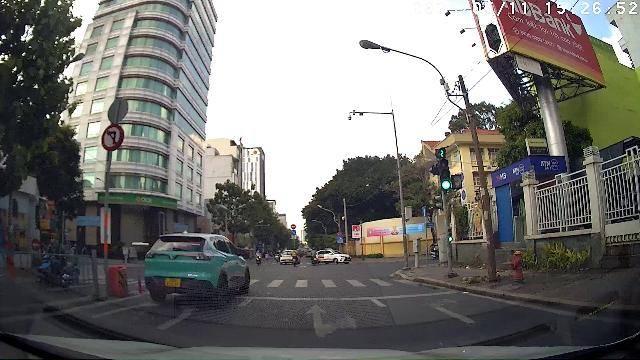123a-cam-re-trai: (101, 125, 125, 152)
